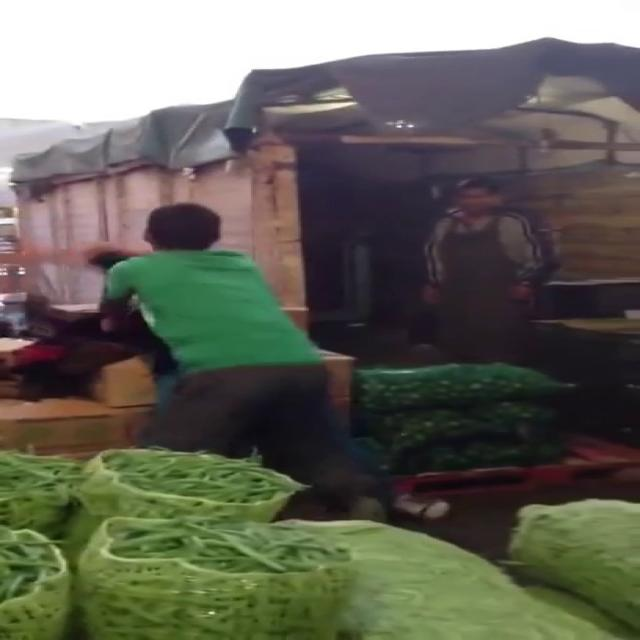non_violence: (410, 180, 557, 350)
violence: (93, 204, 334, 443)
